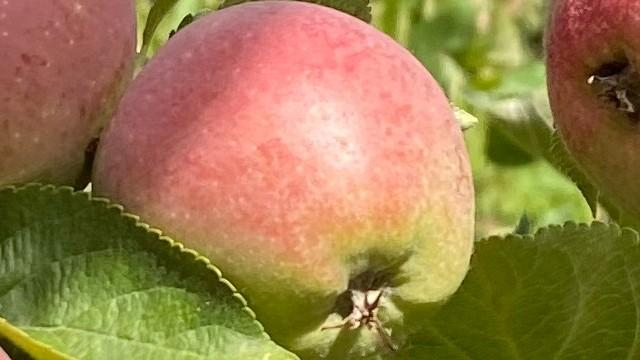fruit: (92, 0, 474, 356), (0, 0, 137, 187), (542, 0, 640, 214)
